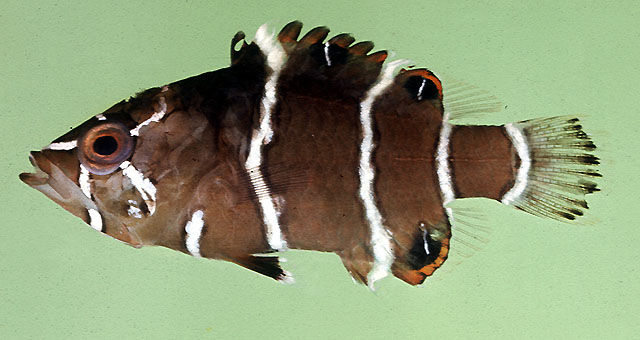fish: (19, 21, 603, 297)
